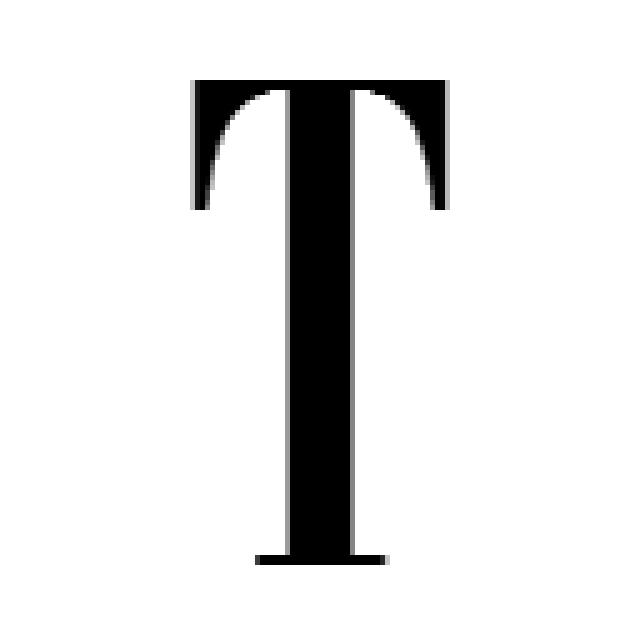T: (180, 70, 455, 565)
